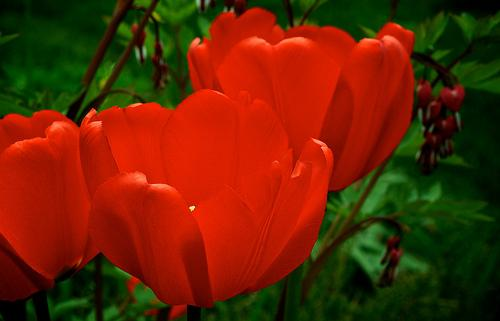tulip: (78, 87, 333, 299)
